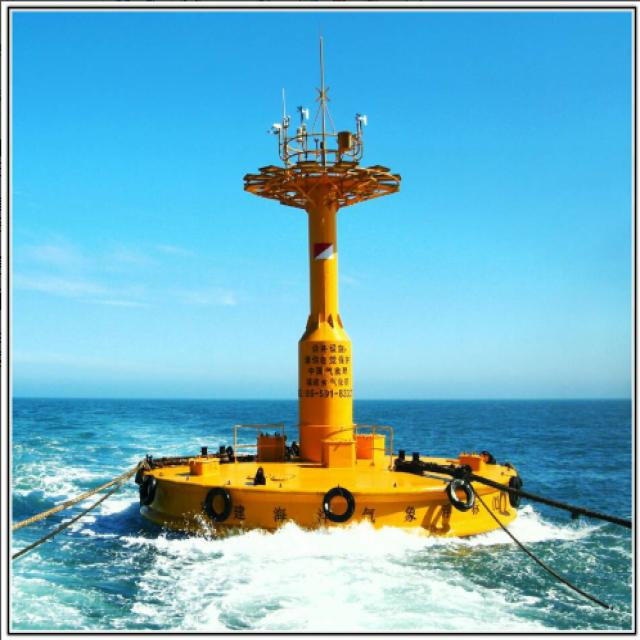buoy: (123, 83, 519, 558)
